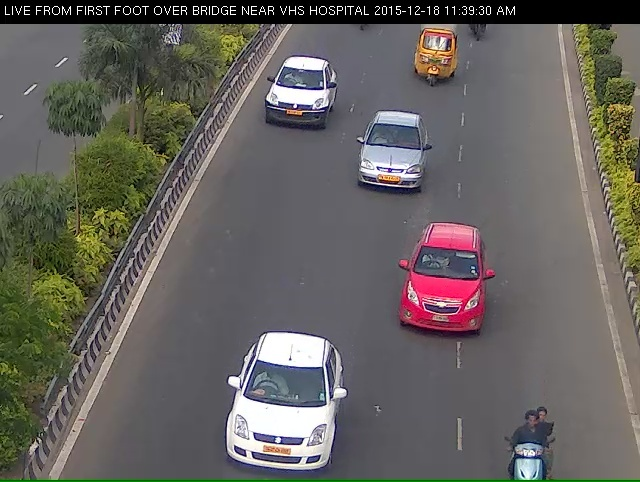Car: (216, 368, 328, 482), (390, 243, 489, 363), (358, 118, 430, 205), (258, 67, 330, 149), (415, 20, 453, 93)
